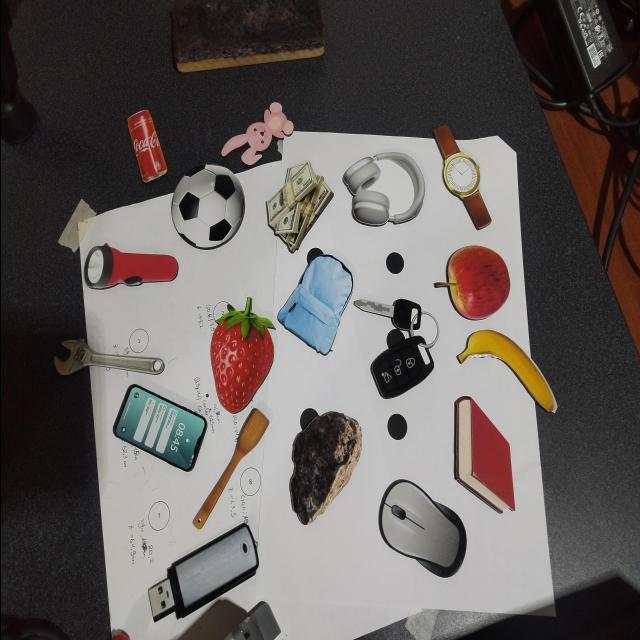Other Objects: (140, 519, 264, 632), (352, 269, 449, 405), (369, 470, 475, 588), (274, 238, 361, 359), (191, 407, 269, 530), (288, 410, 363, 526), (456, 329, 557, 413), (112, 383, 207, 472), (169, 161, 246, 253), (265, 160, 334, 254), (432, 124, 492, 231), (341, 151, 425, 227), (433, 245, 510, 321), (81, 237, 178, 291), (220, 101, 294, 166), (53, 339, 164, 375), (126, 108, 167, 183)
